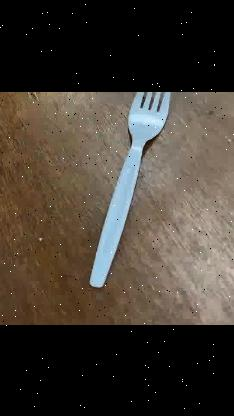Others: (90, 92, 171, 288)
